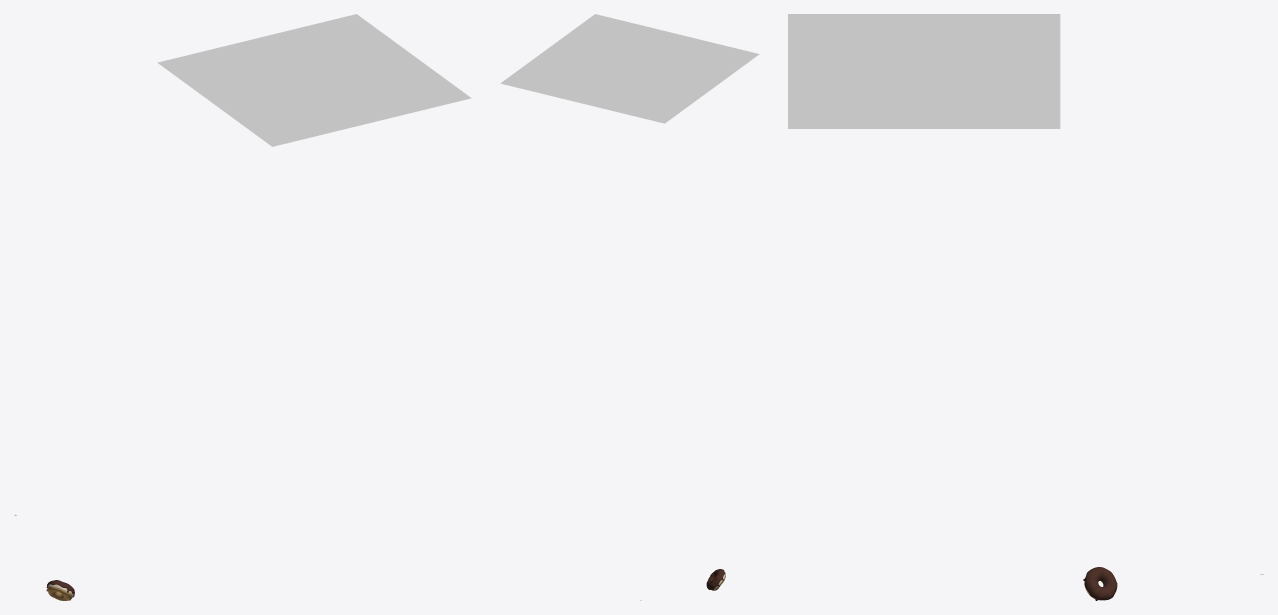
File: 3d-donut-model.glb
3 renders of one model, left to right at view 1: azimuth 30°, elevation 25°; view 2: azimuth 150°, elevation 25°; view 3: azimuth 270°, elevation 25°, orthographic. The views are drawn at different scales.
Visible parts, largest first — view 1: Plane; view 2: Plane; view 3: Plane, icing.
Boxes of the visible parts, box(x1,y1,x2,y2) form: Plane: box(157, 14, 471, 146); Plane: box(500, 14, 759, 123); Plane: box(788, 14, 1060, 128); icing: box(1083, 567, 1117, 600).
Size of the model in its own units: 0.8877 by 1.56 by 1.06.
3 materials, 1 textured.
